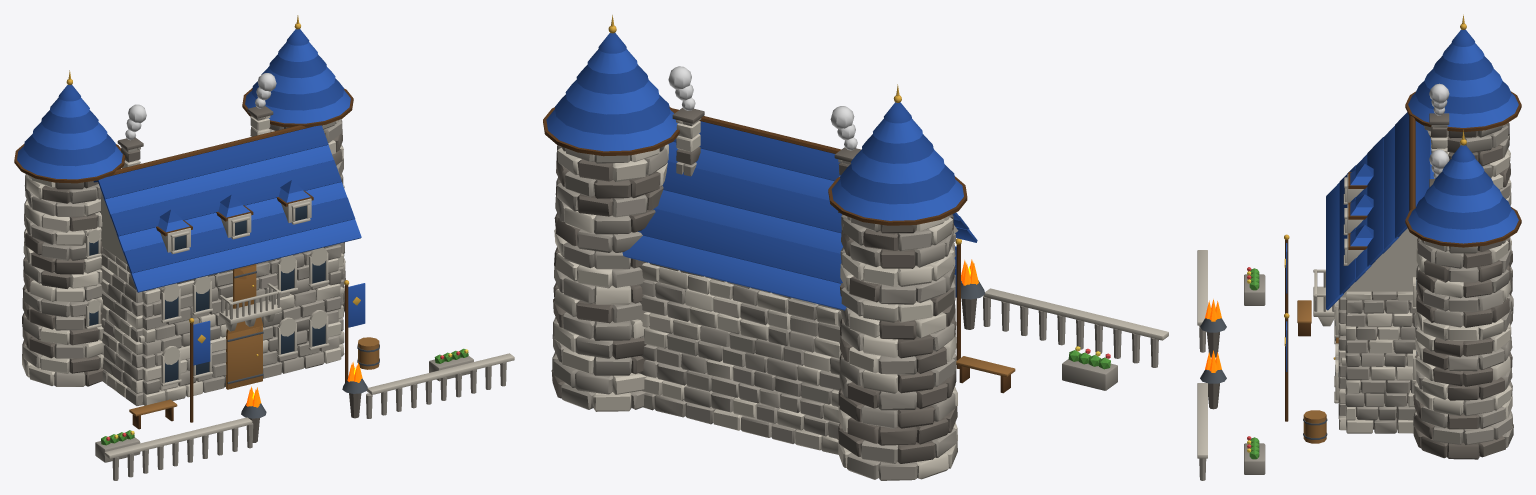
The model's file is budynek_glowny_poz16.glb.
3 views of the same model, side by side, from view 1: azimuth 30°, elevation 25°; view 2: azimuth 150°, elevation 25°; view 3: azimuth 270°, elevation 25° (orthographic). The views are drawn at different scales.
Parts seen in each view (by area): view 1: budynek_glowny_poz16; view 2: budynek_glowny_poz16; view 3: budynek_glowny_poz16.
Boxes of the visible parts, x1,y1,x2,y2 form: budynek_glowny_poz16: (14, 15, 514, 480); budynek_glowny_poz16: (543, 15, 1168, 480); budynek_glowny_poz16: (1197, 14, 1521, 480).
Size of the model in its own units: 13.6 by 9.59 by 9.08.
